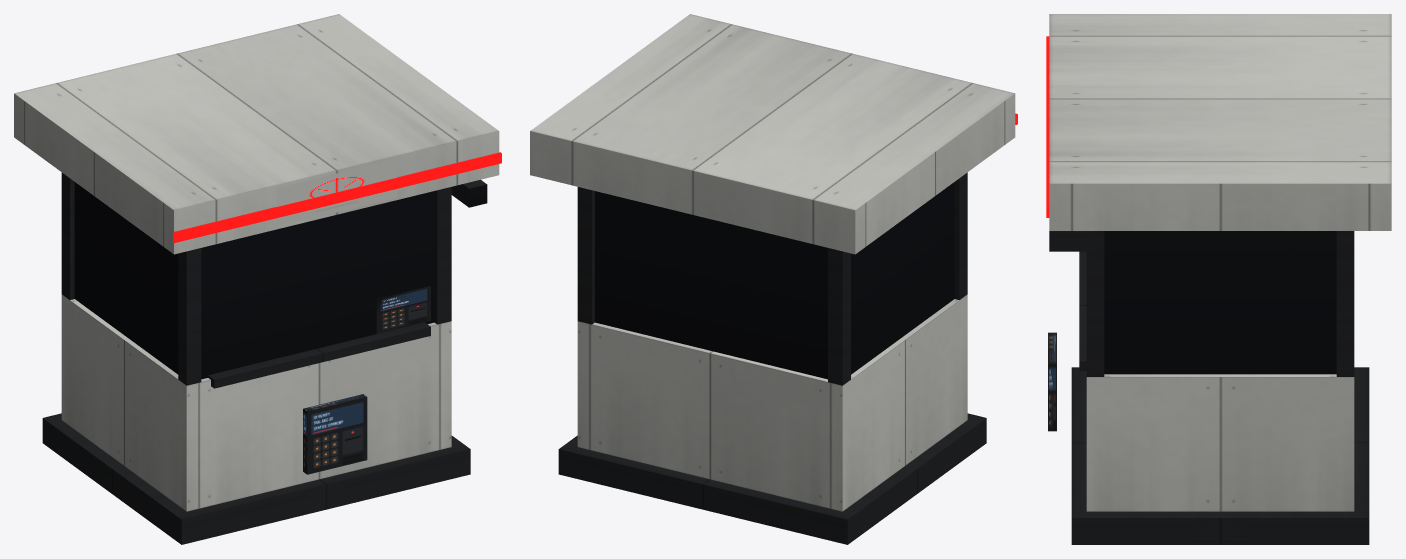
The model's file is SM_INFD_HQSecurityBooth.fbx.
3 views of the same model, side by side, from view 1: azimuth 30°, elevation 25°; view 2: azimuth 150°, elevation 25°; view 3: azimuth 270°, elevation 25° (orthographic). The views are drawn at different scales.
Parts seen in each view (by area): view 1: SM_INFD_HQSecurityBooth_LOD0; view 2: SM_INFD_HQSecurityBooth_LOD0; view 3: SM_INFD_HQSecurityBooth_LOD0.
Part boxes in pixels (<box>): SM_INFD_HQSecurityBooth_LOD0: <box>14,14,501,544</box>; SM_INFD_HQSecurityBooth_LOD0: <box>530,14,1017,544</box>; SM_INFD_HQSecurityBooth_LOD0: <box>1046,14,1391,544</box>.
Size of what is drawn, in the model's own units: 2.72 by 2.75 by 2.32.
